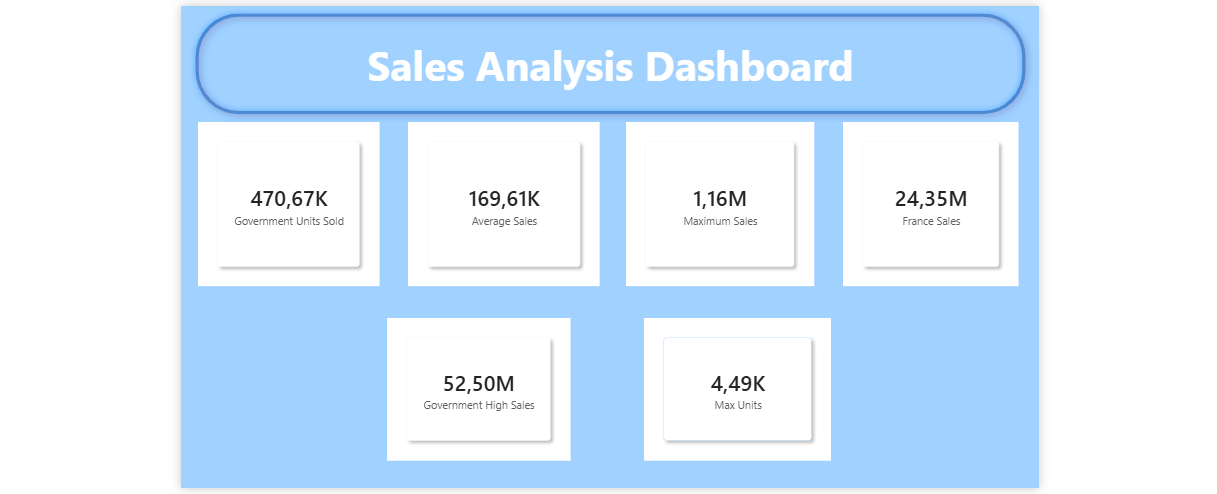

The page's visual inventory and layout, read from the dashboard file:
{"tool":"powerbi","page":{"name":"Page 1","canvas":[1280,720],"ordinal":0},"visuals":[{"type":"cardVisual","fields":{"Data":["financials.gov_seg_units"]},"box":[25.5,172.9,270.7,245.2],"z":0},{"type":"cardVisual","fields":{"Data":["financials.avg_sales"]},"box":[338.7,172.9,286.3,245.2],"z":1000},{"type":"cardVisual","fields":{"Data":["financials.Max_sales"]},"box":[664.7,172.9,280.6,245.2],"z":2000},{"type":"cardVisual","fields":{"Data":["financials.Max_units"]},"box":[691.7,466.3,279.2,212.6],"z":3000},{"type":"cardVisual","fields":{"Data":["financials.france_sales"]},"box":[987.9,172.9,262.2,245.2],"z":4000},{"type":"cardVisual","fields":{"Data":["financials.gove_high_sales"]},"box":[307.6,466.3,273.5,212.6],"z":5000},{"type":"shape","box":[9.9,0,1261.4,172.9],"z":6000}]}

Visuals, with their boxes on the page's 1280x720 design canvas (x1, y1, x2, y2). These are canvas units, not pixel positions in the 1217x494 screenshot, which may show the page scaled, cropped or inside an application window:
cardVisual - financials.gov_seg_units: bbox=(26, 173, 296, 418)
cardVisual - financials.avg_sales: bbox=(339, 173, 625, 418)
cardVisual - financials.Max_sales: bbox=(665, 173, 945, 418)
cardVisual - financials.Max_units: bbox=(692, 466, 971, 679)
cardVisual - financials.france_sales: bbox=(988, 173, 1250, 418)
cardVisual - financials.gove_high_sales: bbox=(308, 466, 581, 679)
shape: bbox=(10, 0, 1271, 173)
